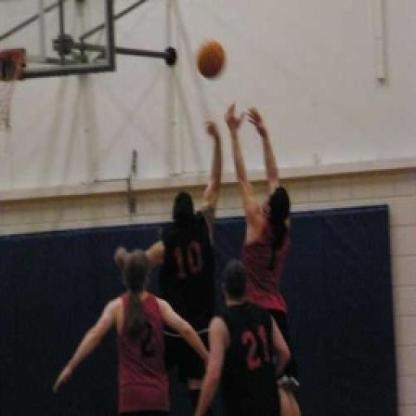basketball: (189, 36, 233, 82)
